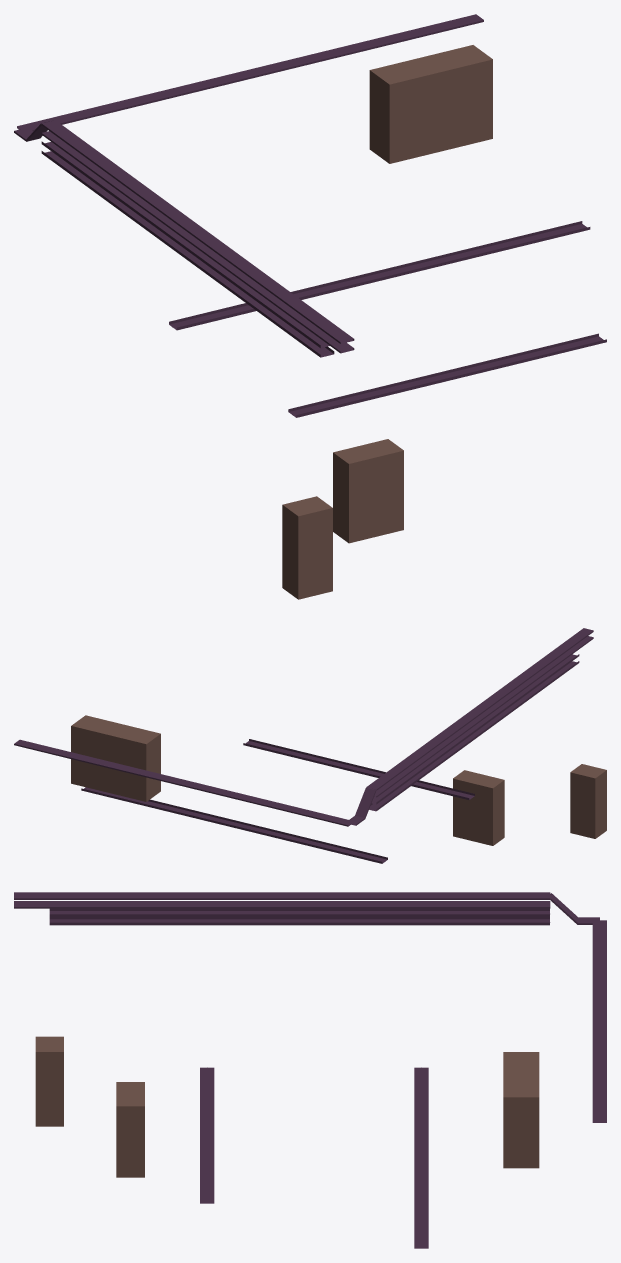
Rendered from GCC-AAV-13220-30(13).fbx.
3 renders of one model, top to bottom at view 1: azimuth 30°, elevation 25°; view 2: azimuth 150°, elevation 25°; view 3: azimuth 270°, elevation 25°, orthographic. The views are drawn at different scales.
Parts seen in each view (by area): view 1: BOX 1 of EQUIPMENT /13220-BD-001-NHVAC-001, BOX 1 of EQUIPMENT 38 of ZONE /13220-02-5200/EL/EQ/ER, BOX 1 of EQUIPMENT /13220-BD-001-HVAC-001.6, BOX 1 of SUBEQUIPMENT /13220-BD-001-NHVAC-001.1, BOX 1 of SUBEQUIPMENT /13220-BD-001-NHVAC-001.2, BOX 1 of EQUIPMENT /13220-BD-001-HVAC-001.7, CTRAY 1 of CTSTRA 3 of CTMTRL 1 of CWBRAN 1 of CWAY /13220-0 (×2), CTRAY 1 of CTSTRA 2 of CTMTRL 1 of CWBRAN 1 of CWAY /13220-0 (×2), CTRAY 1 of CTSTRA 1 of CTMTRL 1 of CWBRAN 1 of CWAY /13220-0 (×2), CTRAY 1 of CTSTRA 4 of CTMTRL 1 of CWBRAN 1 of CWAY /13220-0, CTRAY 1 of CTSTRA 22 of CTMTRL 1 of CWBRAN 1 of CWAY /13220-, CTRAY 1 of CTSTRA 24 of CTMTRL 1 of CWBRAN 1 of CWAY /13220- (+7 smaller); view 2: BOX 1 of EQUIPMENT 38 of ZONE /13220-02-5200/EL/EQ/ER, BOX 1 of EQUIPMENT /13220-BD-001-NHVAC-001, BOX 1 of EQUIPMENT /13220-BD-001-HVAC-001.6, BOX 1 of SUBEQUIPMENT /13220-BD-001-NHVAC-001.1, BOX 1 of SUBEQUIPMENT /13220-BD-001-NHVAC-001.2, CTRAY 1 of CTSTRA 3 of CTMTRL 1 of CWBRAN 1 of CWAY /13220-0 (×2), BOX 1 of EQUIPMENT /13220-BD-001-HVAC-001.7, CTRAY 1 of CTSTRA 2 of CTMTRL 1 of CWBRAN 1 of CWAY /13220-0 (×2), CTRAY 1 of CTSTRA 1 of CTMTRL 1 of CWBRAN 1 of CWAY /13220-0 (×2), CTRAY 1 of CTSTRA 21 of CTMTRL 1 of CWBRAN 1 of CWAY /13220-, CTRAY 1 of CTSTRA 22 of CTMTRL 1 of CWBRAN 1 of CWAY /13220-, CTRAY 1 of CTSTRA 24 of CTMTRL 1 of CWBRAN 1 of CWAY /13220- (+12 smaller); view 3: BOX 1 of SUBEQUIPMENT /13220-BD-001-NHVAC-001.2, BOX 1 of EQUIPMENT 38 of ZONE /13220-02-5200/EL/EQ/ER, BOX 1 of EQUIPMENT /13220-BD-001-HVAC-001.7, CTRAY 1 of CTSTRA 3 of CTMTRL 1 of CWBRAN 1 of CWAY /13220-0 (×2), CTRAY 1 of CTSTRA 1 of CTMTRL 1 of CWBRAN 1 of CWAY /13220-0 (×2), CTRAY 1 of CTSTRA 2 of CTMTRL 1 of CWBRAN 1 of CWAY /13220-0 (×2), CTRAY 1 of CTSTRA 1 of CTMTRL 1 of CWBRAN 3 of CWAY /13220-0, CTRAY 1 of CTSTRA 2 of CTMTRL 1 of CWBRAN 3 of CWAY /13220-0, CTRAY 1 of CTSTRA 3 of CTMTRL 1 of CWBRAN 3 of CWAY /13220-0, CTRAY 1 of CTSTRA 4 of CTMTRL 1 of CWBRAN 3 of CWAY /13220-0, CTRAY 1 of CTSTRA 5 of CTMTRL 1 of CWBRAN 3 of CWAY /13220-0, CTRAY 1 of CTSTRA 28 of CTMTRL 1 of CWBRAN 1 of CWAY /13220- (+11 smaller).
Part boxes in pixels (box(x1,y1,x2,y2)): BOX 1 of EQUIPMENT /13220-BD-001-NHVAC-001: box(369, 61, 423, 163); BOX 1 of EQUIPMENT 38 of ZONE /13220-02-5200/EL/EQ/ER: box(282, 496, 332, 599); BOX 1 of EQUIPMENT /13220-BD-001-HVAC-001.6: box(333, 445, 376, 543); BOX 1 of SUBEQUIPMENT /13220-BD-001-NHVAC-001.1: box(404, 53, 458, 155); BOX 1 of SUBEQUIPMENT /13220-BD-001-NHVAC-001.2: box(439, 45, 492, 146); BOX 1 of EQUIPMENT /13220-BD-001-HVAC-001.7: box(361, 439, 403, 536); CTRAY 1 of CTSTRA 3 of CTMTRL 1 of CWBRAN 1 of CWAY /13220-0 (×2): box(376, 246, 606, 367); CTRAY 1 of CTSTRA 2 of CTMTRL 1 of CWBRAN 1 of CWAY /13220-0 (×2): box(290, 271, 503, 392); CTRAY 1 of CTSTRA 1 of CTMTRL 1 of CWBRAN 1 of CWAY /13220-0 (×2): box(169, 303, 399, 417); CTRAY 1 of CTSTRA 4 of CTMTRL 1 of CWBRAN 1 of CWAY /13220-0: box(479, 221, 590, 254); CTRAY 1 of CTSTRA 22 of CTMTRL 1 of CWBRAN 1 of CWAY /13220-: box(269, 39, 380, 72); CTRAY 1 of CTSTRA 24 of CTMTRL 1 of CWBRAN 1 of CWAY /13220-: box(62, 90, 173, 122); BOX 1 of EQUIPMENT 38 of ZONE /13220-02-5200/EL/EQ/ER: box(570, 764, 606, 838); BOX 1 of EQUIPMENT /13220-BD-001-NHVAC-001: box(121, 727, 160, 801); BOX 1 of EQUIPMENT /13220-BD-001-HVAC-001.6: box(473, 775, 504, 845); BOX 1 of SUBEQUIPMENT /13220-BD-001-NHVAC-001.1: box(96, 721, 135, 795); BOX 1 of SUBEQUIPMENT /13220-BD-001-NHVAC-001.2: box(71, 715, 110, 789); CTRAY 1 of CTSTRA 3 of CTMTRL 1 of CWBRAN 1 of CWAY /13220-0 (×2): box(156, 739, 324, 826); BOX 1 of EQUIPMENT /13220-BD-001-HVAC-001.7: box(453, 770, 483, 841); CTRAY 1 of CTSTRA 2 of CTMTRL 1 of CWBRAN 1 of CWAY /13220-0 (×2): box(231, 757, 385, 845); CTRAY 1 of CTSTRA 1 of CTMTRL 1 of CWBRAN 1 of CWAY /13220-0 (×2): box(307, 780, 474, 863); CTRAY 1 of CTSTRA 21 of CTMTRL 1 of CWBRAN 1 of CWAY /13220-: box(14, 739, 94, 763); CTRAY 1 of CTSTRA 22 of CTMTRL 1 of CWBRAN 1 of CWAY /13220-: box(89, 758, 169, 781); CTRAY 1 of CTSTRA 24 of CTMTRL 1 of CWBRAN 1 of CWAY /13220-: box(240, 795, 320, 818); BOX 1 of SUBEQUIPMENT /13220-BD-001-NHVAC-001.2: box(503, 1082, 539, 1168); BOX 1 of EQUIPMENT 38 of ZONE /13220-02-5200/EL/EQ/ER: box(35, 1036, 63, 1126); BOX 1 of EQUIPMENT /13220-BD-001-HVAC-001.7: box(116, 1094, 144, 1177); CTRAY 1 of CTSTRA 3 of CTMTRL 1 of CWBRAN 1 of CWAY /13220-0 (×2): box(200, 1158, 428, 1203); CTRAY 1 of CTSTRA 1 of CTMTRL 1 of CWBRAN 1 of CWAY /13220-0 (×2): box(200, 1067, 428, 1112); CTRAY 1 of CTSTRA 2 of CTMTRL 1 of CWBRAN 1 of CWAY /13220-0 (×2): box(200, 1113, 428, 1158); CTRAY 1 of CTSTRA 1 of CTMTRL 1 of CWBRAN 3 of CWAY /13220-0: box(443, 901, 550, 908); CTRAY 1 of CTSTRA 2 of CTMTRL 1 of CWBRAN 3 of CWAY /13220-0: box(335, 901, 442, 908); CTRAY 1 of CTSTRA 3 of CTMTRL 1 of CWBRAN 3 of CWAY /13220-0: box(228, 901, 335, 908); CTRAY 1 of CTSTRA 4 of CTMTRL 1 of CWBRAN 3 of CWAY /13220-0: box(121, 901, 228, 908); CTRAY 1 of CTSTRA 5 of CTMTRL 1 of CWBRAN 3 of CWAY /13220-0: box(14, 901, 121, 908); CTRAY 1 of CTSTRA 28 of CTMTRL 1 of CWBRAN 1 of CWAY /13220-: box(443, 892, 550, 899).
Bounding box in the file's own units: 574 × 282 × 653.
